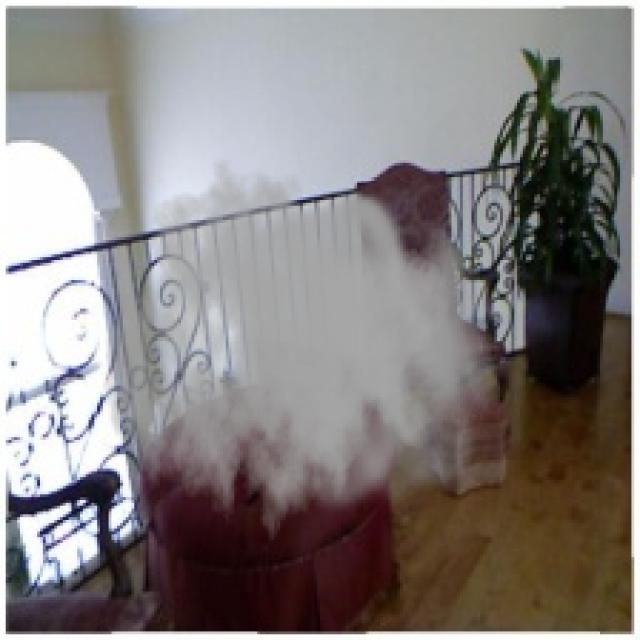smoke: (103, 157, 497, 560)
